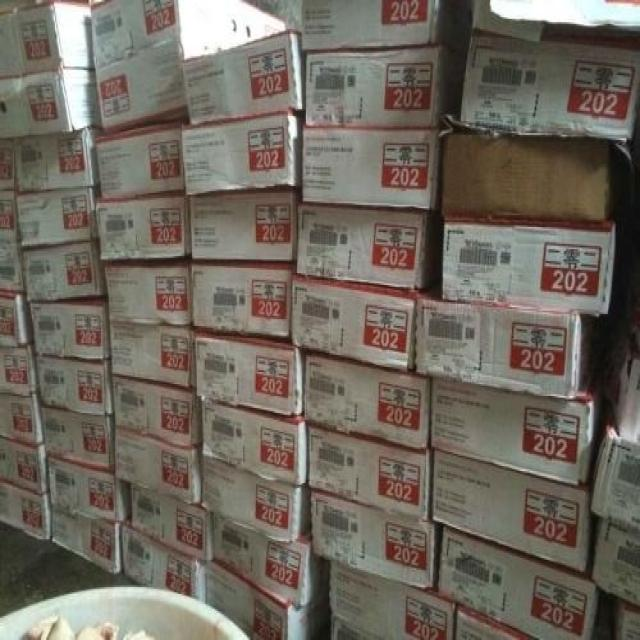box: (415, 273, 594, 401), (460, 24, 640, 142), (429, 367, 603, 486), (430, 449, 593, 573), (438, 526, 600, 640), (440, 222, 616, 314), (440, 133, 611, 222), (88, 0, 287, 70), (305, 43, 466, 128), (311, 488, 443, 591), (296, 203, 445, 292), (93, 39, 229, 135), (305, 350, 431, 451), (291, 275, 419, 372), (302, 126, 445, 212), (182, 31, 307, 126), (308, 427, 433, 522), (212, 512, 333, 608), (205, 556, 332, 640), (329, 560, 457, 640), (182, 113, 302, 198), (201, 456, 311, 543), (202, 398, 308, 488), (193, 335, 307, 416), (301, 0, 474, 53), (191, 259, 293, 345), (93, 116, 189, 200), (188, 189, 294, 263), (114, 423, 204, 505), (588, 398, 640, 534), (0, 68, 101, 138), (113, 374, 204, 451), (123, 522, 207, 602), (599, 290, 640, 449), (131, 485, 214, 563), (95, 195, 192, 261), (13, 123, 104, 193), (109, 319, 196, 391), (46, 456, 132, 524), (102, 261, 191, 326), (19, 239, 106, 304), (15, 186, 99, 251), (40, 406, 115, 478), (31, 294, 111, 360), (50, 503, 124, 573), (35, 352, 115, 416), (591, 519, 640, 606), (0, 480, 50, 541), (472, 0, 545, 41), (0, 437, 49, 497), (454, 606, 538, 640), (0, 393, 44, 447), (0, 341, 37, 394), (0, 292, 33, 346), (332, 613, 383, 640), (611, 597, 640, 640), (0, 242, 24, 292), (0, 189, 19, 242), (0, 138, 15, 189)
